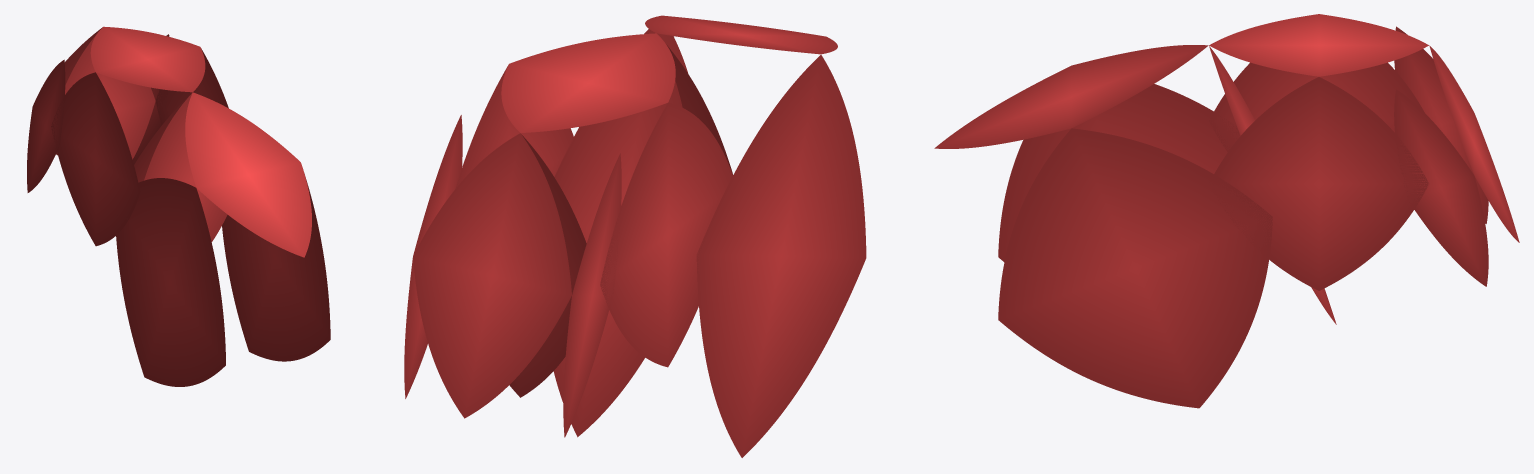
Rendered from deagle_357_sight_light.fbx.
The picture shows the model from 3 angles, left to right: view 1: azimuth 30°, elevation 25°; view 2: azimuth 150°, elevation 25°; view 3: azimuth 270°, elevation 25°; orthographic projection. The views are drawn at different scales.
Visible parts, largest first — view 1: cube, cube_1, cube_2; view 2: cube, cube_1, cube_2; view 3: cube, cube_1, cube_2.
Boxes of the visible parts, x1,y1,x2,y2 form: cube: (116,92,330,386); cube_1: (51,26,228,246); cube_2: (27,27,169,192); cube: (553,15,866,457); cube_1: (455,33,732,397); cube_2: (404,115,621,437); cube: (934,45,1336,408); cube_1: (1209,14,1428,290); cube_2: (1394,26,1519,286).
Size of the model in its own units: 1.17 by 3.33 by 4.62.
1 material, 1 textured.
